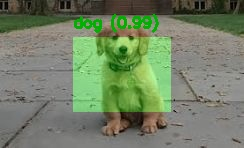dog: (73, 37, 171, 111)
